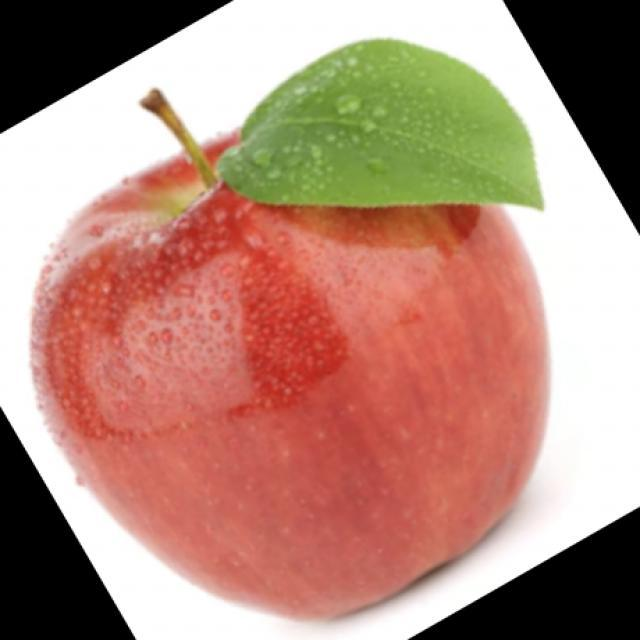Fresh Apple: (30, 128, 550, 614)
